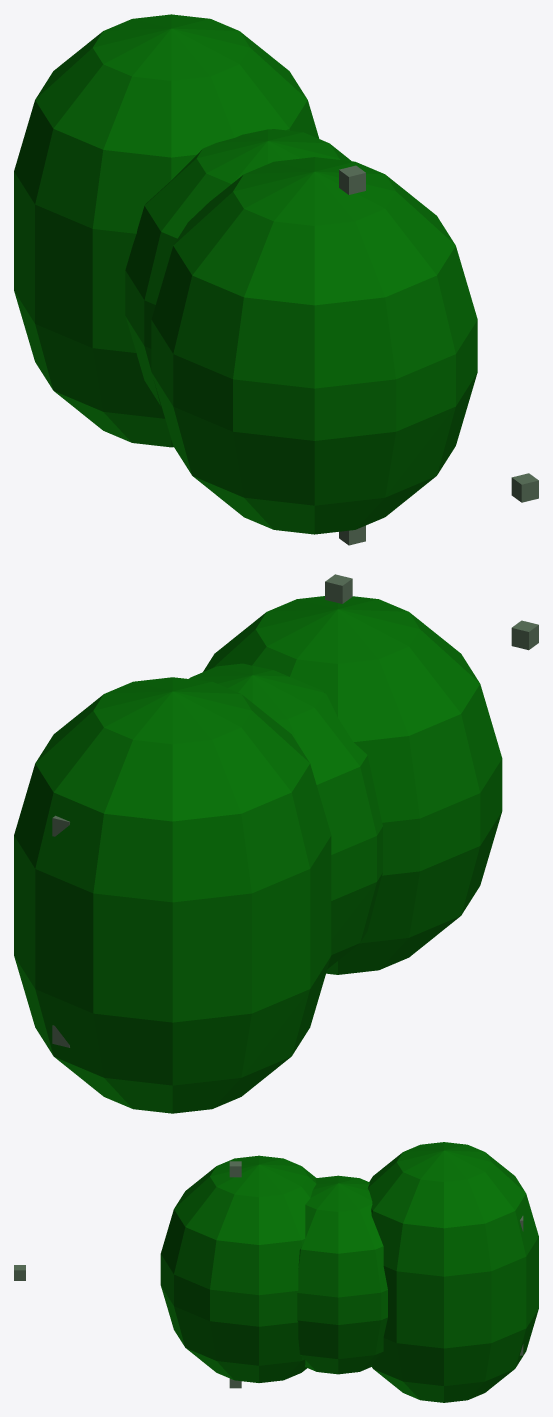
The picture shows the model from 3 angles, top to bottom: view 1: azimuth 30°, elevation 25°; view 2: azimuth 150°, elevation 25°; view 3: azimuth 270°, elevation 25°; orthographic projection. The views are drawn at different scales.
Size of the model in its own units: 0.1668 by 0.224 by 0.437.
